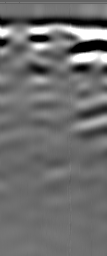pipe: (45, 22, 80, 43), (7, 21, 31, 43)
